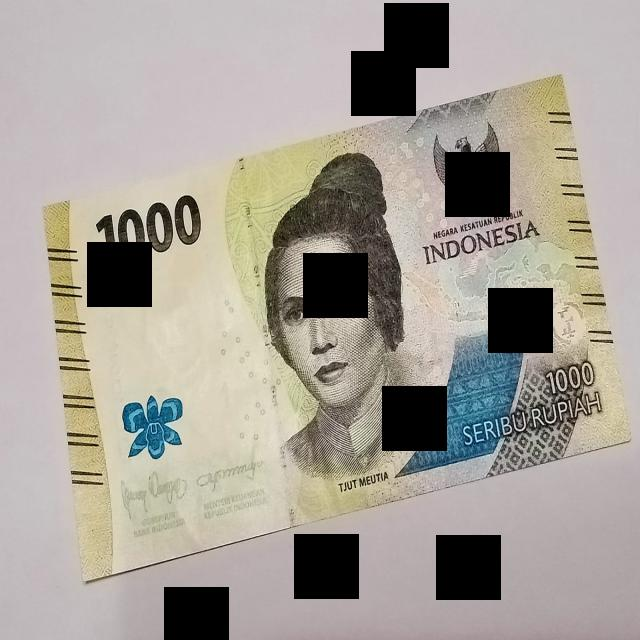seribu rupiah: (45, 77, 629, 580)
